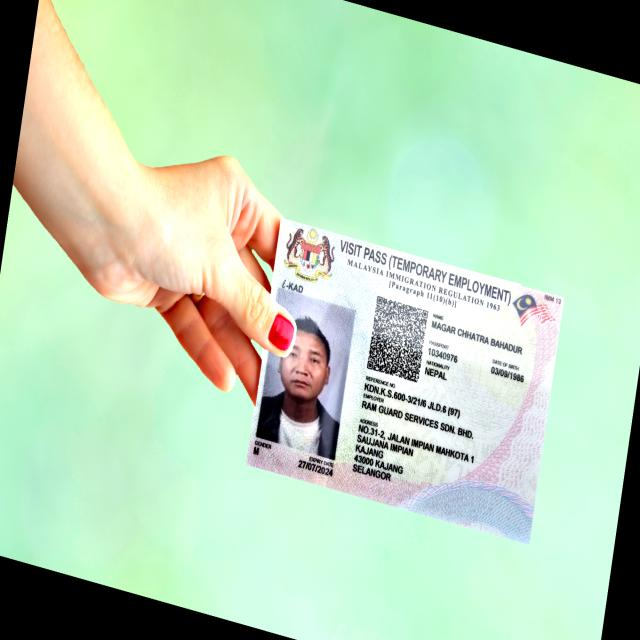ikad-temp: (246, 216, 564, 544)
